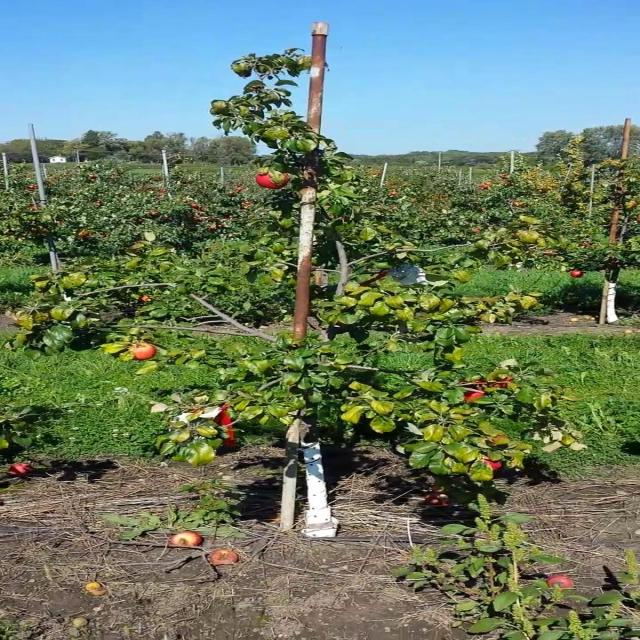apple: (255, 176, 292, 192), (476, 376, 512, 388), (134, 344, 156, 360), (461, 392, 485, 404), (483, 460, 505, 472), (490, 436, 510, 444)
